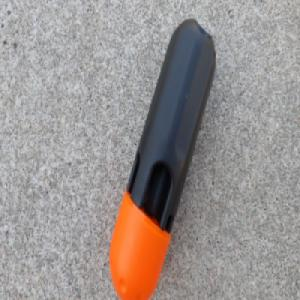PlasticPart: (107, 17, 217, 300)
